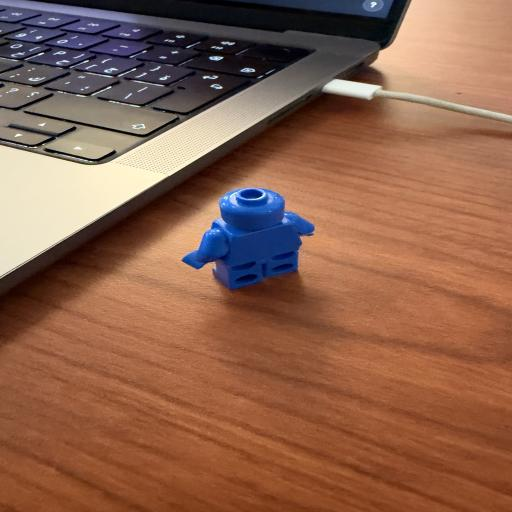Minifig: (180, 187, 316, 291)
